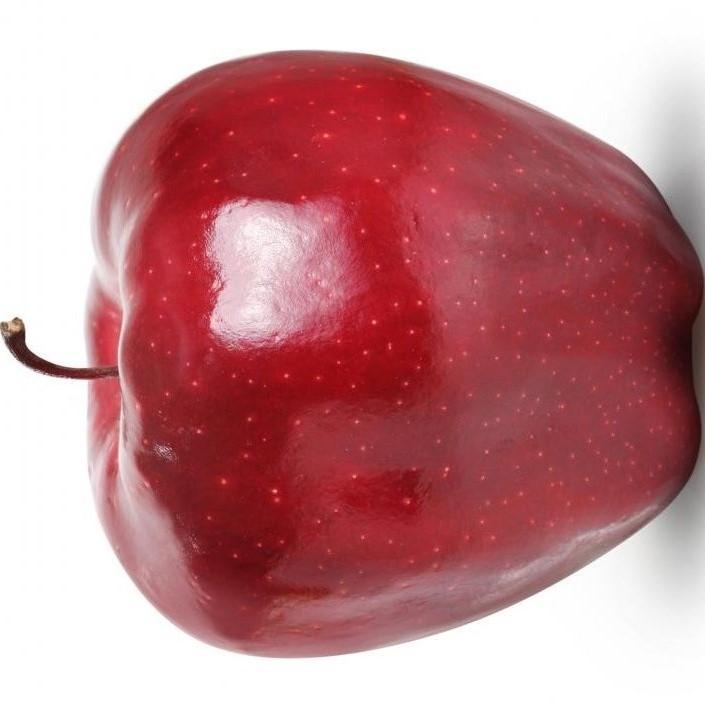fruit: (57, 44, 705, 671)
